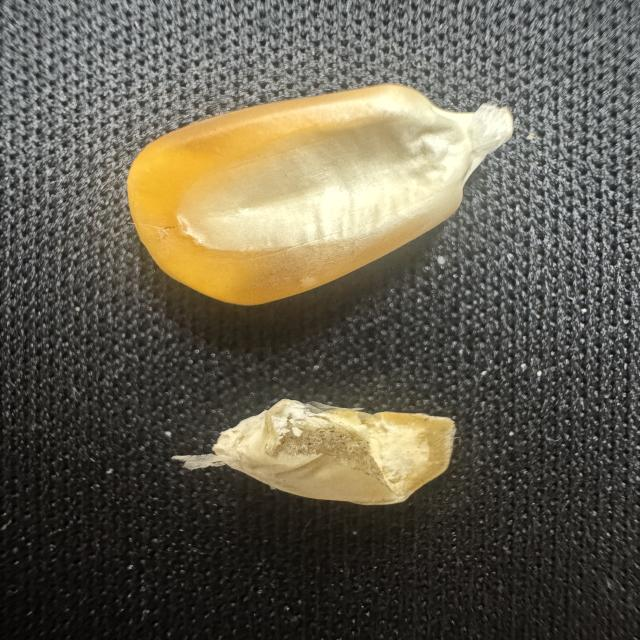Bad-Seed: (167, 376, 478, 534)
Good-Seed: (121, 65, 534, 313)
